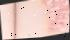plaque psoriasis: (38, 0, 70, 37)
